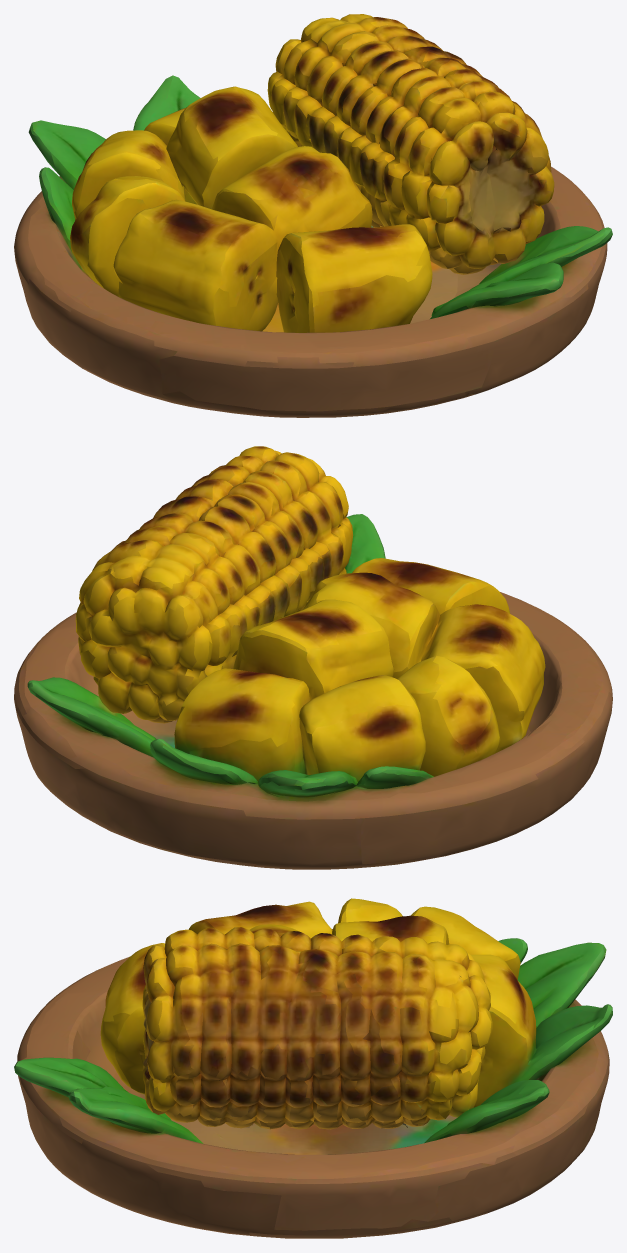
The model's file is boli_plate.glb.
The picture shows the model from 3 angles, top to bottom: view 1: azimuth 30°, elevation 25°; view 2: azimuth 150°, elevation 25°; view 3: azimuth 270°, elevation 25°; orthographic projection.
Parts seen in each view (by area): view 1: geometry_0; view 2: geometry_0; view 3: geometry_0.
Boxes of the visible parts, x1,y1,x2,y2 form: geometry_0: [14, 14, 612, 417]; geometry_0: [14, 446, 612, 869]; geometry_0: [14, 898, 612, 1238].
Size of the model in its own units: 0.22 by 0.1035 by 0.22.
Materials: 1 (1 with a texture image).
